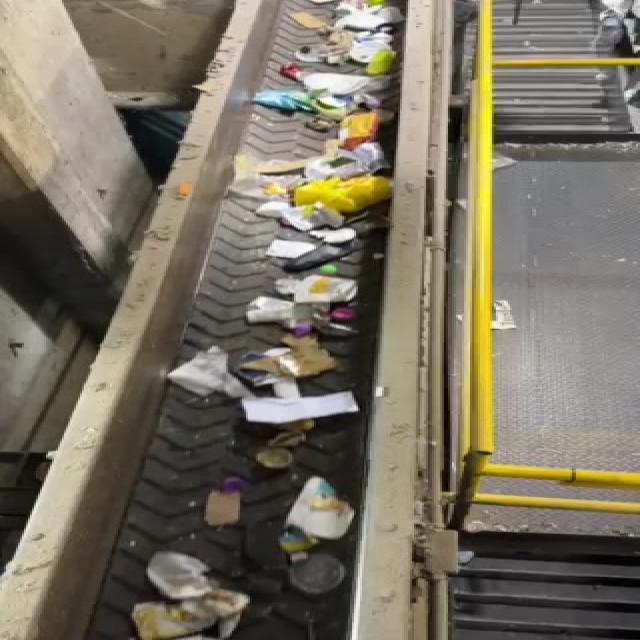paper: (93, 590, 293, 640), (228, 384, 394, 432), (272, 468, 374, 544), (155, 332, 259, 402), (182, 465, 258, 540)
pp: (128, 528, 228, 606), (278, 550, 352, 599), (232, 444, 302, 475)
